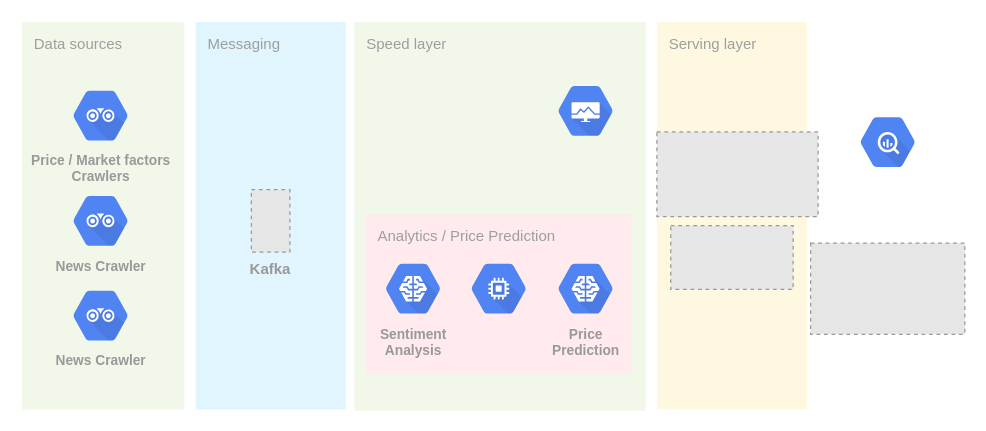
The diagram is 986 pixels wide and 431 high, and some of its shapes have lost their labels. Grey dashed boxes stand in for pictures. The centre of each missing label's shape, as x and y in pixels:
Realtime Dashboard ( if we have time ): the point at 887,141
Realtime View: the point at 585,110
Technical Analysis: the point at 498,288
